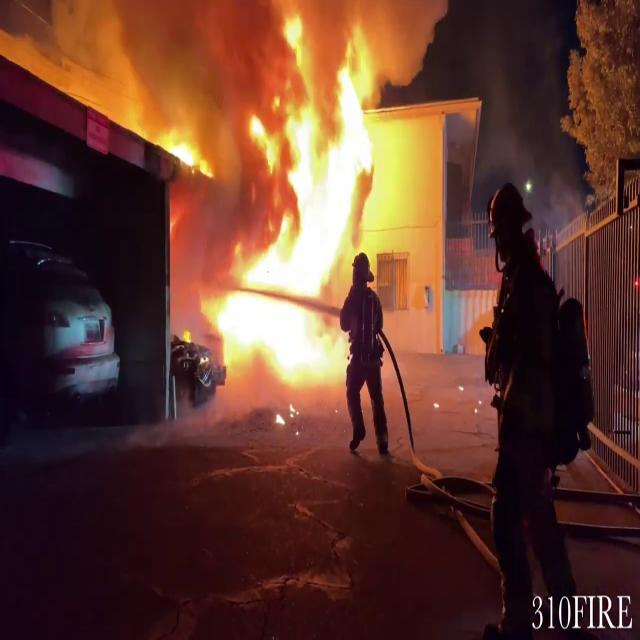Fire: (219, 0, 382, 385), (151, 116, 216, 182)
Smoke: (88, 0, 285, 204)
